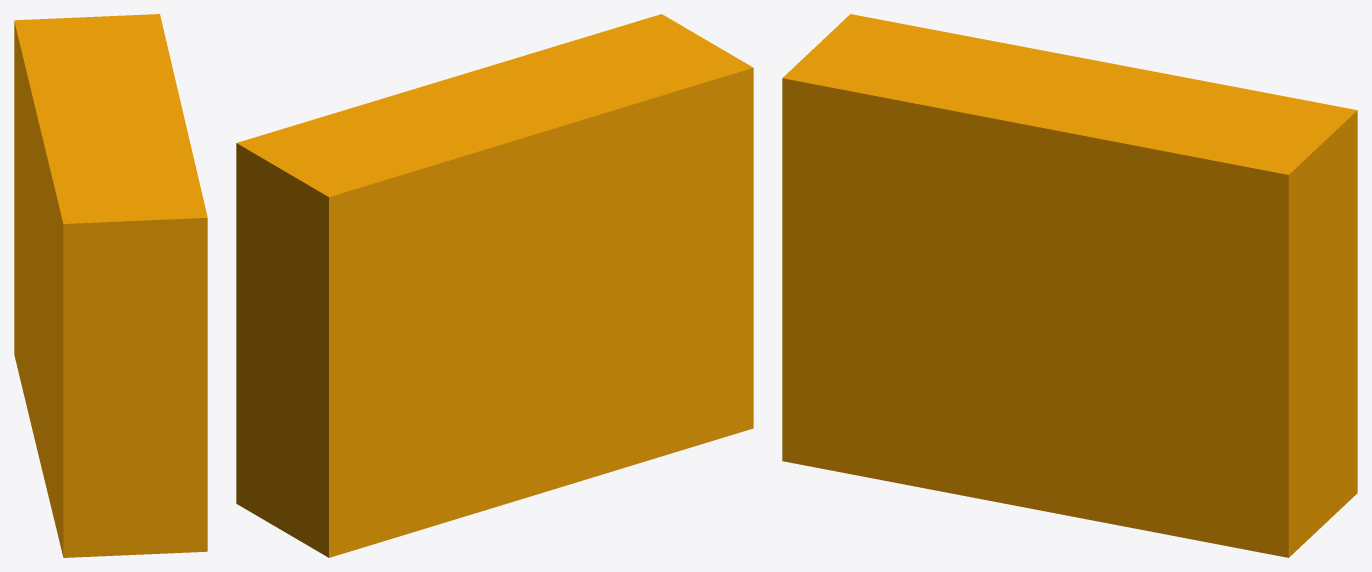
The model's file is DEHB01ALk0001D8R.gltf.
3 views of the same model, side by side, from view 1: azimuth 30°, elevation 25°; view 2: azimuth 150°, elevation 25°; view 3: azimuth 270°, elevation 25° (orthographic). The views are drawn at different scales.
Visible parts, largest first — view 1: Z_UP; view 2: Z_UP; view 3: Z_UP.
Boxes of the visible parts, x1,y1,x2,y2 form: Z_UP: (14,14,207,557); Z_UP: (236,14,753,557); Z_UP: (782,14,1357,557).
Size of the model in its own units: 3.69 by 4.1 by 5.57.
